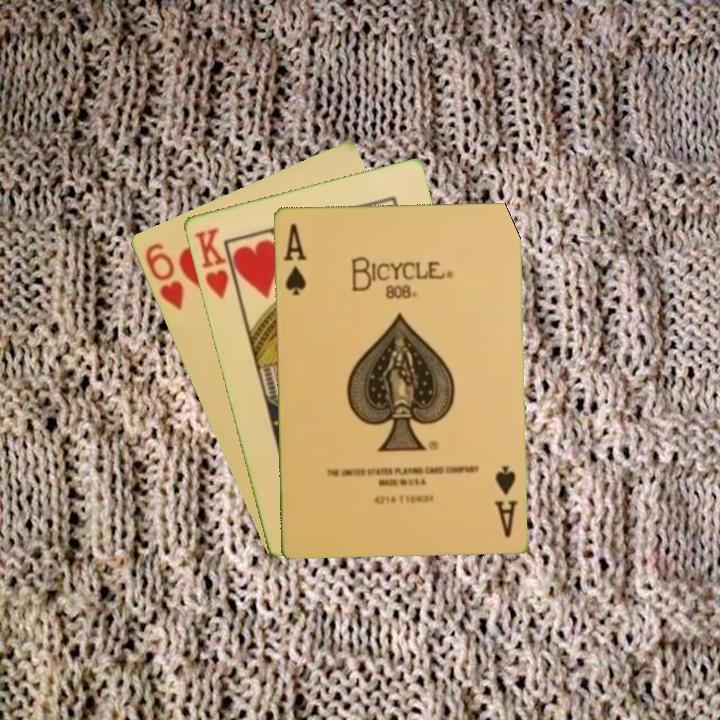6h: (140, 239, 186, 314)
As: (490, 461, 520, 540), (280, 220, 309, 298)
Kh: (190, 224, 240, 301)
